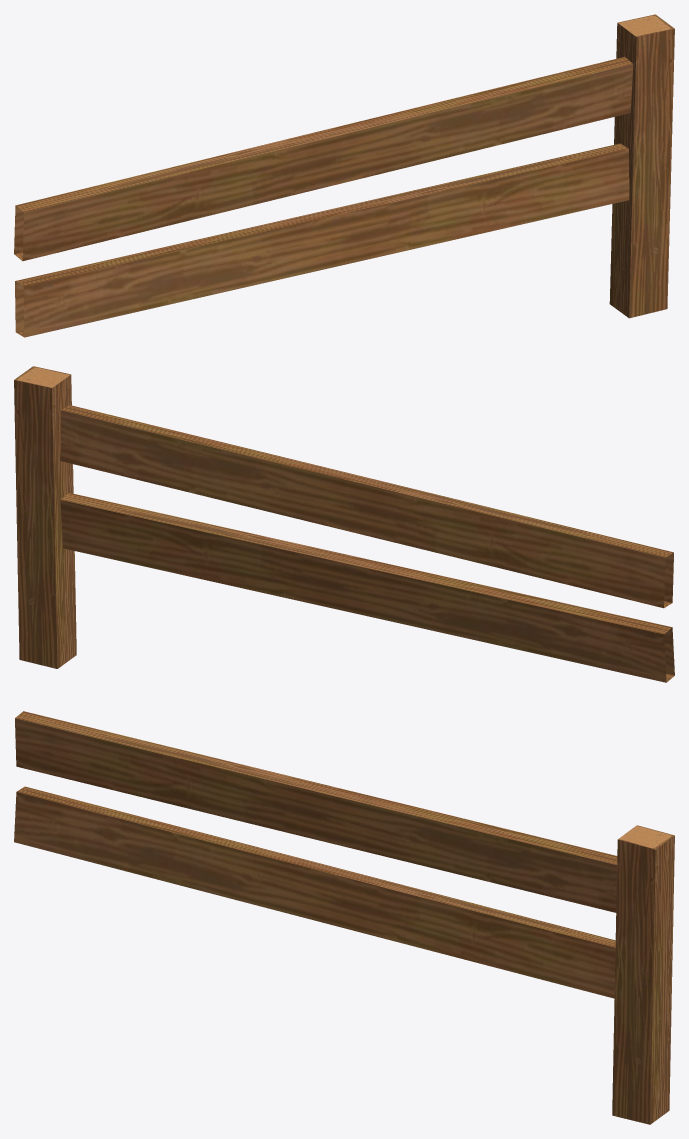
The model's file is fence_wood_ext2.glb.
3 views of the same model, one above another, from view 1: azimuth 30°, elevation 25°; view 2: azimuth 150°, elevation 25°; view 3: azimuth 330°, elevation 25° (orthographic).
Size of the model in its own units: 2.03 by 0.8381 by 0.1104.
Materials: 1 (1 with a texture image).
